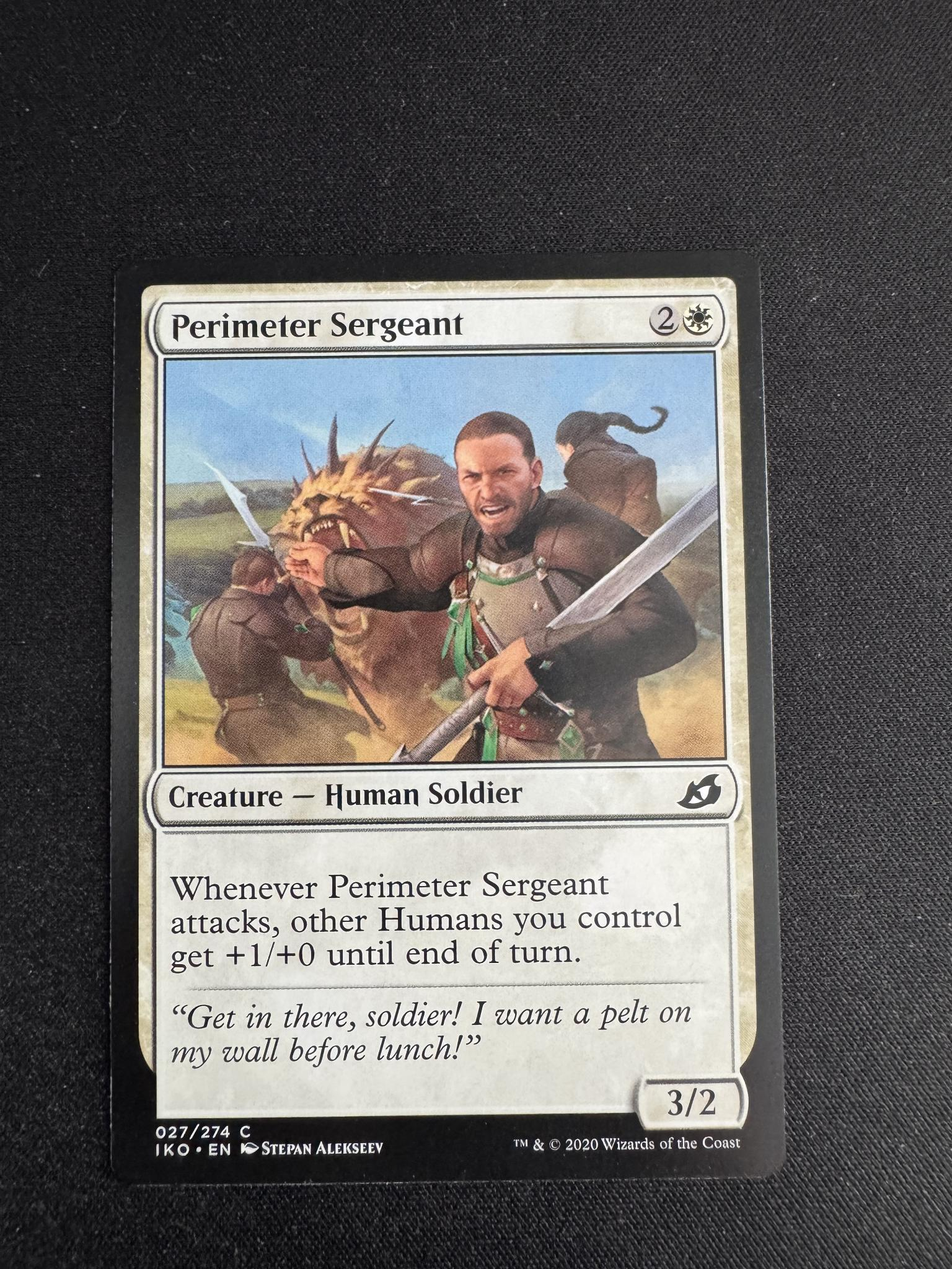card-2UtV: (110, 249, 787, 1183)
